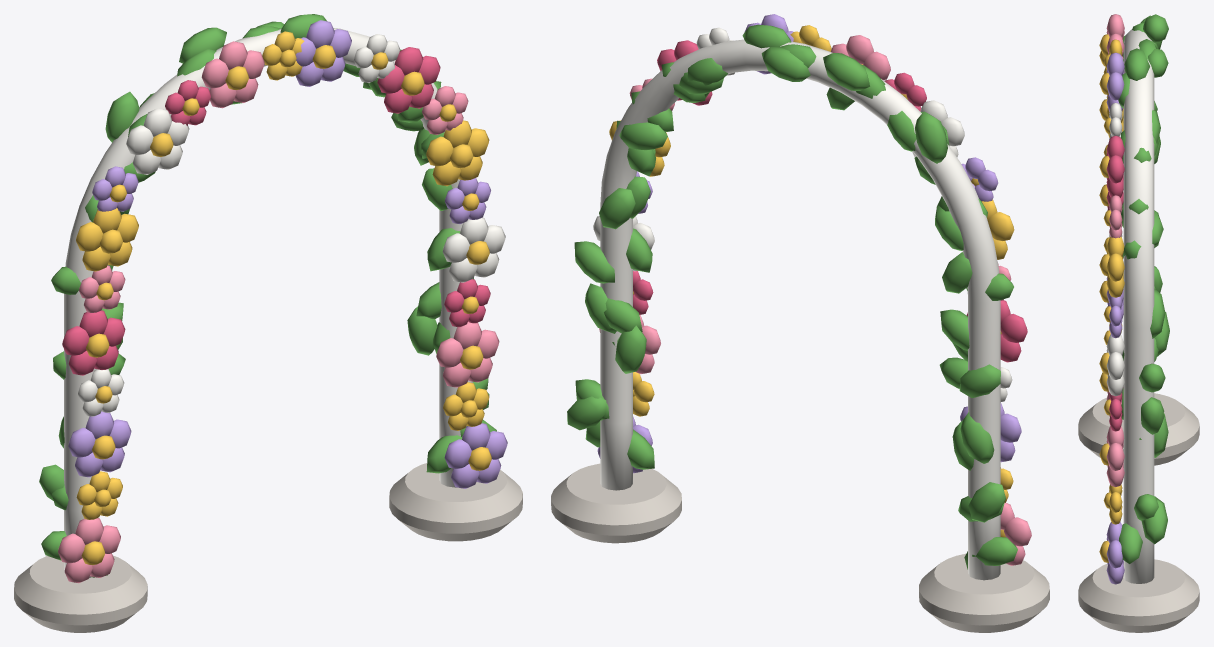
File: flower_arch.fbx
The picture shows the model from 3 angles, left to right: view 1: azimuth 30°, elevation 25°; view 2: azimuth 150°, elevation 25°; view 3: azimuth 270°, elevation 25°; orthographic projection. The views are drawn at different scales.
Visible parts, largest first — view 1: flower_arch_White, flower_arch_Yellow, flower_arch_Stone, flower_arch_Green, flower_arch_Pink, flower_arch_Lilac, flower_arch_PinkDark; view 2: flower_arch_Green, flower_arch_White, flower_arch_Stone, flower_arch_PinkDark, flower_arch_Pink, flower_arch_Yellow, flower_arch_Lilac; view 3: flower_arch_White, flower_arch_Stone, flower_arch_Green, flower_arch_Yellow, flower_arch_Lilac, flower_arch_Pink, flower_arch_PinkDark.
Part boxes in pixels (left/top/right/bottom): flower_arch_White: left=64, top=28, right=505, bottom=577; flower_arch_Yellow: left=76, top=31, right=491, bottom=565; flower_arch_Stone: left=14, top=463, right=522, bottom=632; flower_arch_Green: left=39, top=14, right=496, bottom=577; flower_arch_Pink: left=58, top=41, right=499, bottom=583; flower_arch_Lilac: left=68, top=20, right=507, bottom=488; flower_arch_PinkDark: left=62, top=47, right=490, bottom=375; flower_arch_Green: left=567, top=24, right=1017, bottom=569; flower_arch_White: left=593, top=27, right=1012, bottom=580; flower_arch_Stone: left=551, top=463, right=1049, bottom=632; flower_arch_PinkDark: left=633, top=40, right=1027, bottom=362; flower_arch_Pink: left=599, top=35, right=1031, bottom=565; flower_arch_Yellow: left=609, top=25, right=1014, bottom=537; flower_arch_Lilac: left=597, top=14, right=1021, bottom=473; flower_arch_White: left=1106, top=29, right=1154, bottom=583; flower_arch_Stone: left=1078, top=393, right=1199, bottom=632; flower_arch_Green: left=1118, top=14, right=1169, bottom=563; flower_arch_Yellow: left=1099, top=34, right=1124, bottom=562; flower_arch_Lilac: left=1106, top=52, right=1124, bottom=584; flower_arch_Pink: left=1106, top=14, right=1124, bottom=486; flower_arch_PinkDark: left=1106, top=135, right=1124, bottom=431.
Bounding box in the file's own units: 28.8 × 30.55 × 6.8.
